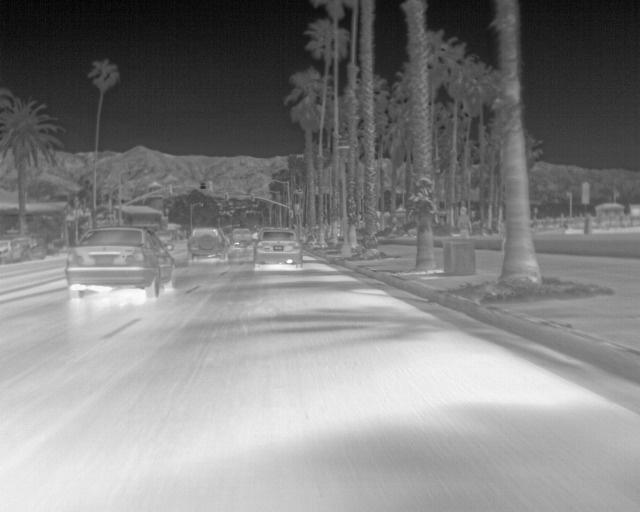bicycle: (67, 221, 178, 305), (253, 228, 305, 270), (184, 225, 230, 258), (229, 227, 253, 247)
